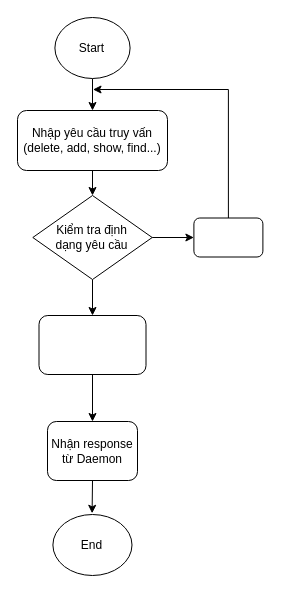
This 281x593 diagram has some shape labels left out. Each missing label, with the centre of its shape:
"In ra lỗi" belongs at (228,237).
"Khởi tạo IPC Gửi yêu cầu cho Daemon" belongs at (92,344).
